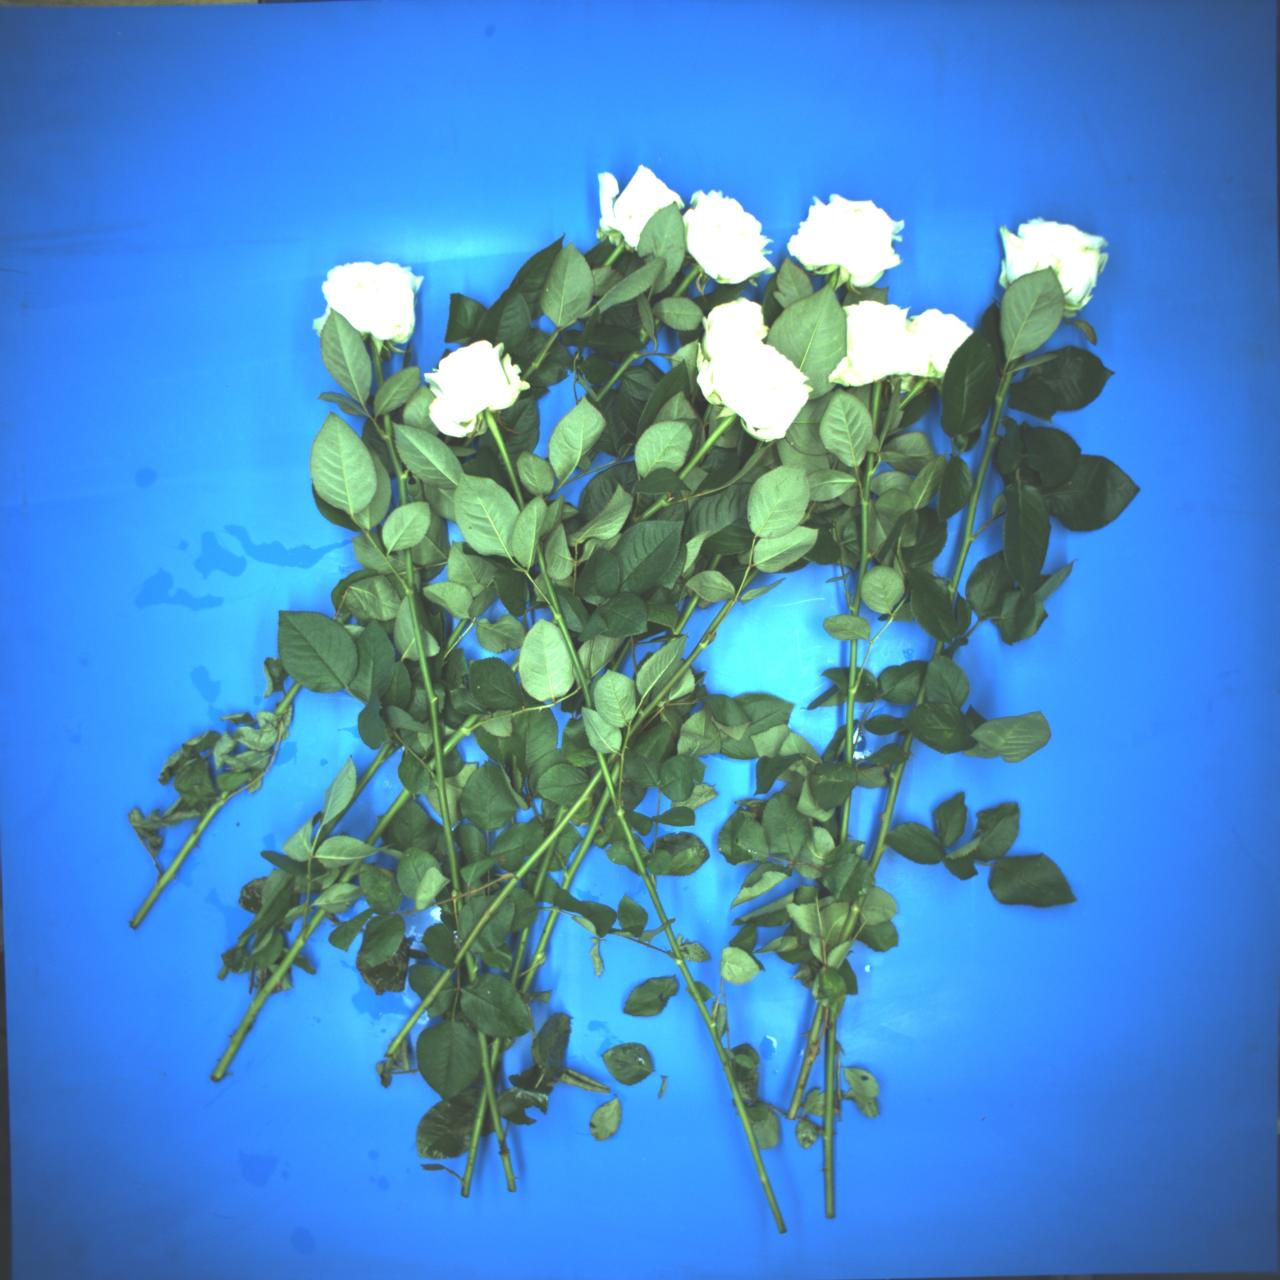Stem: (579, 748, 803, 1234), (400, 547, 465, 917), (207, 904, 327, 1084), (944, 354, 1020, 606), (128, 785, 233, 932), (530, 540, 595, 712), (311, 738, 395, 851), (475, 1028, 516, 1193), (557, 787, 615, 891), (783, 1005, 830, 1121), (849, 452, 878, 617), (483, 410, 529, 511), (867, 758, 906, 872), (676, 410, 737, 481), (374, 414, 416, 506), (518, 906, 560, 995), (459, 1080, 491, 1196), (590, 346, 646, 404), (245, 872, 295, 930), (365, 788, 413, 846), (434, 708, 488, 758), (824, 1009, 836, 1218), (520, 325, 561, 382), (843, 639, 860, 765), (527, 835, 557, 904), (837, 891, 866, 949), (668, 594, 700, 644), (636, 486, 678, 524), (509, 926, 531, 986), (670, 266, 701, 301), (442, 615, 470, 653), (610, 635, 636, 674), (273, 681, 301, 717), (865, 381, 883, 434), (338, 855, 365, 887), (601, 240, 628, 271), (369, 339, 384, 387), (485, 1036, 502, 1076), (459, 951, 481, 981), (839, 792, 851, 844), (236, 927, 256, 952), (608, 757, 625, 785), (704, 551, 723, 574), (552, 803, 567, 831), (914, 682, 930, 708), (509, 656, 525, 675), (900, 731, 913, 755), (634, 327, 651, 345), (931, 640, 944, 661), (461, 434, 477, 450), (338, 608, 352, 626), (828, 271, 839, 291), (217, 965, 231, 981), (425, 758, 440, 772)
flower: (682, 315, 823, 451), (979, 198, 1115, 324), (782, 178, 918, 301), (406, 325, 535, 448), (570, 144, 687, 260), (312, 248, 427, 353), (815, 291, 922, 392), (680, 183, 774, 288), (886, 295, 975, 387), (689, 292, 772, 362)
